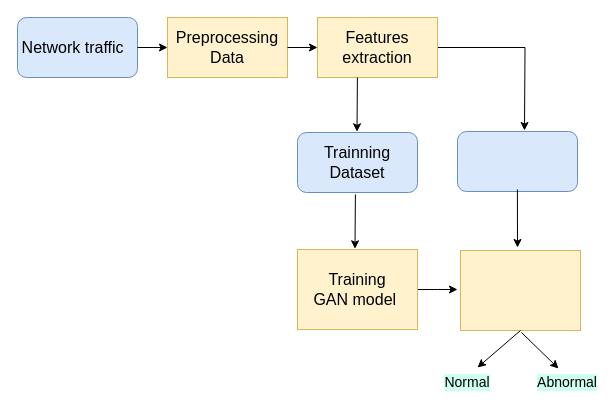
Some shapes in this 615 by 415 pixel diagram are drawn without their labels. Each missing label, with the centre of its shape:
"Detection model" goes at point 520,290.
"Testing Dataset" goes at point 517,161.
